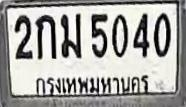0: (153, 12, 170, 56), (110, 13, 127, 57)
2: (14, 14, 32, 58)
4: (132, 12, 149, 56)
5: (90, 13, 107, 57)
A01: (36, 14, 56, 59)
A33: (60, 12, 81, 58)
BKK: (34, 70, 153, 98)
